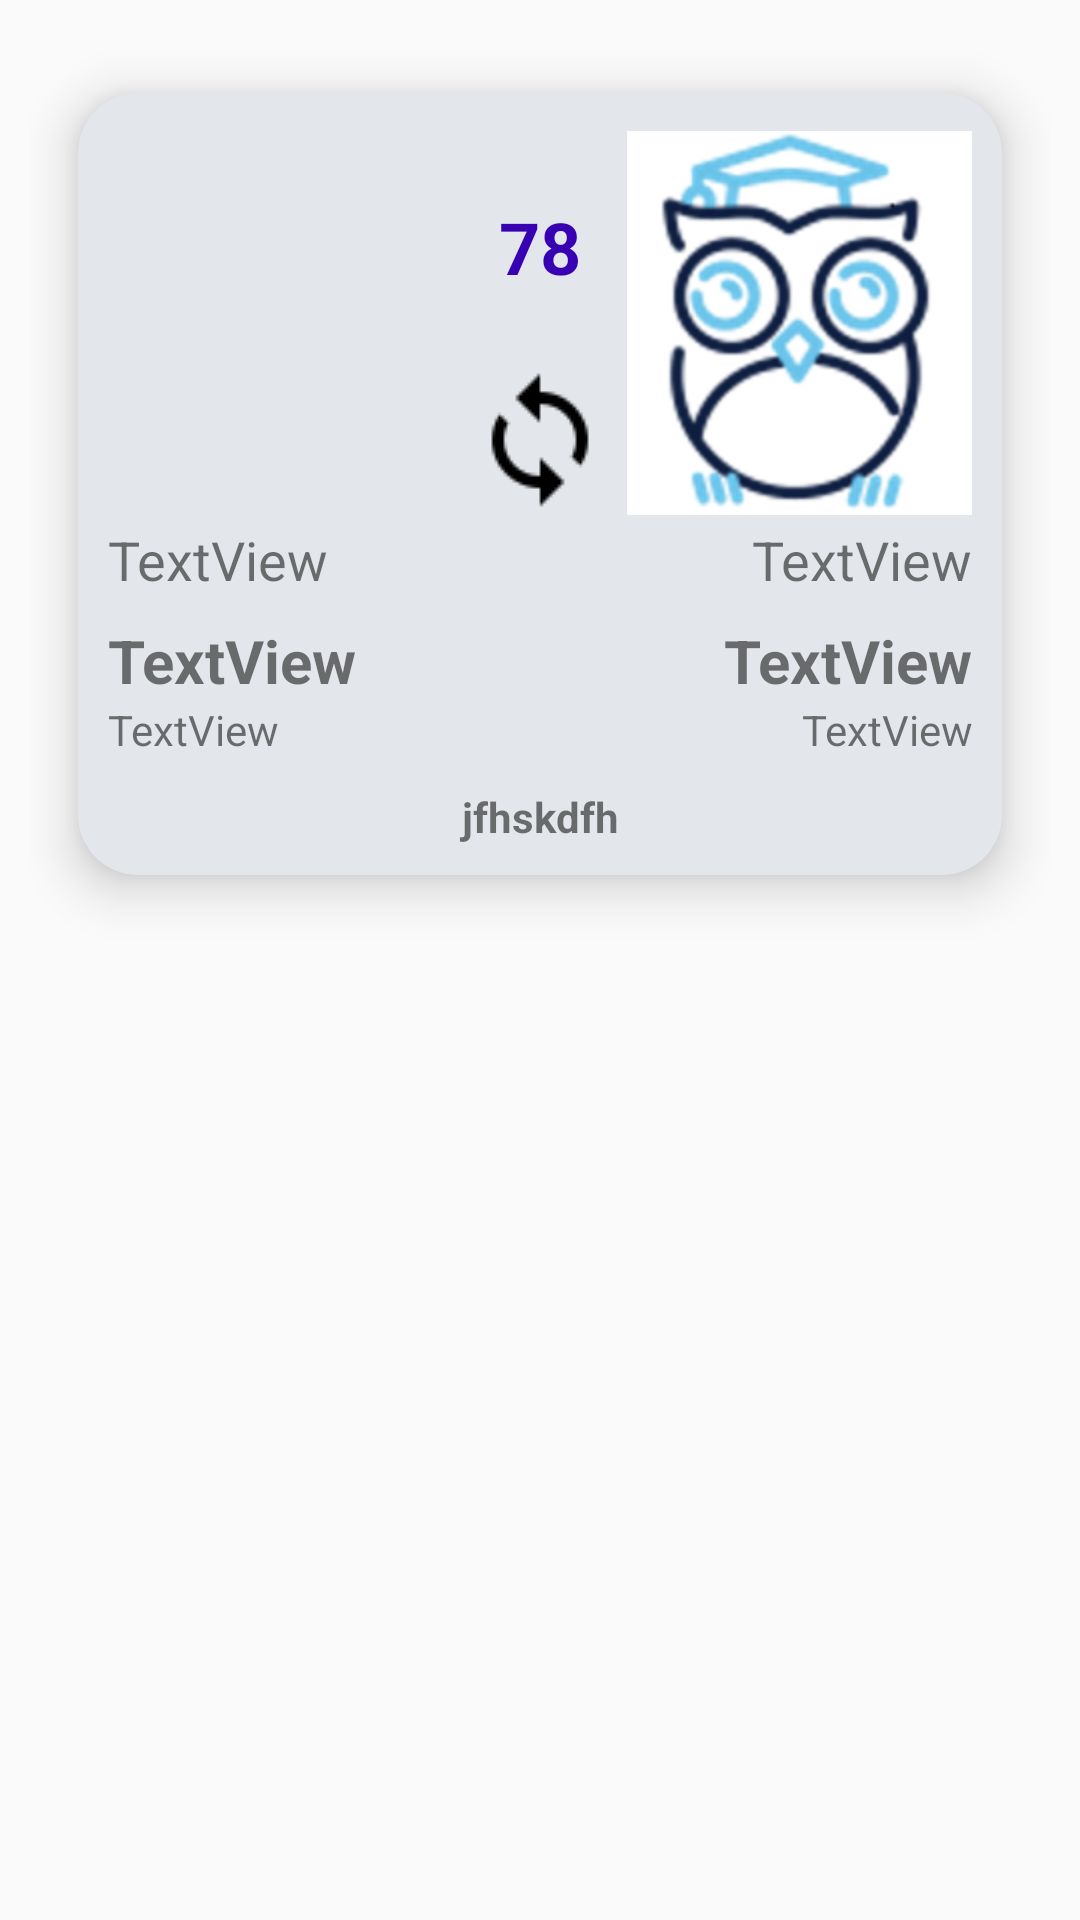

Icon click points for this 1080*1920 phone screenshot, format [x,y]:
sync: [540,440]
